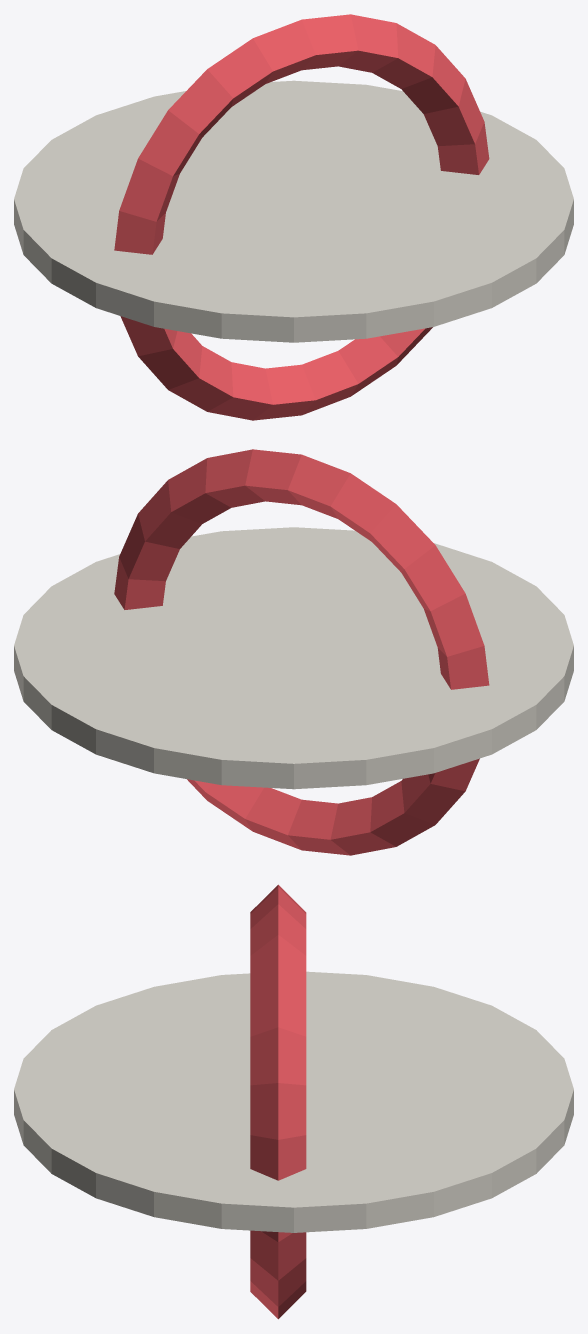
Rendered from sousbock.glb.
3 renders of one model, top to bottom at view 1: azimuth 30°, elevation 25°; view 2: azimuth 150°, elevation 25°; view 3: azimuth 270°, elevation 25°, orthographic.
Visible parts, largest first — view 1: Cylinder, Torus; view 2: Cylinder, Torus; view 3: Cylinder, Torus.
Boxes of the visible parts, x1,y1,x2,y2 form: Cylinder: [14, 80, 573, 342]; Torus: [114, 14, 489, 420]; Cylinder: [14, 527, 573, 789]; Torus: [114, 449, 489, 855]; Cylinder: [14, 971, 573, 1232]; Torus: [250, 884, 306, 1319].
Bounding box in the file's own units: 0.1 × 0.078 × 0.1.
